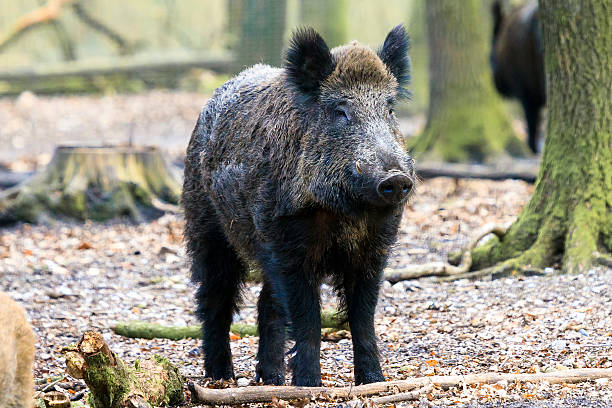pig: (284, 26, 428, 212)
